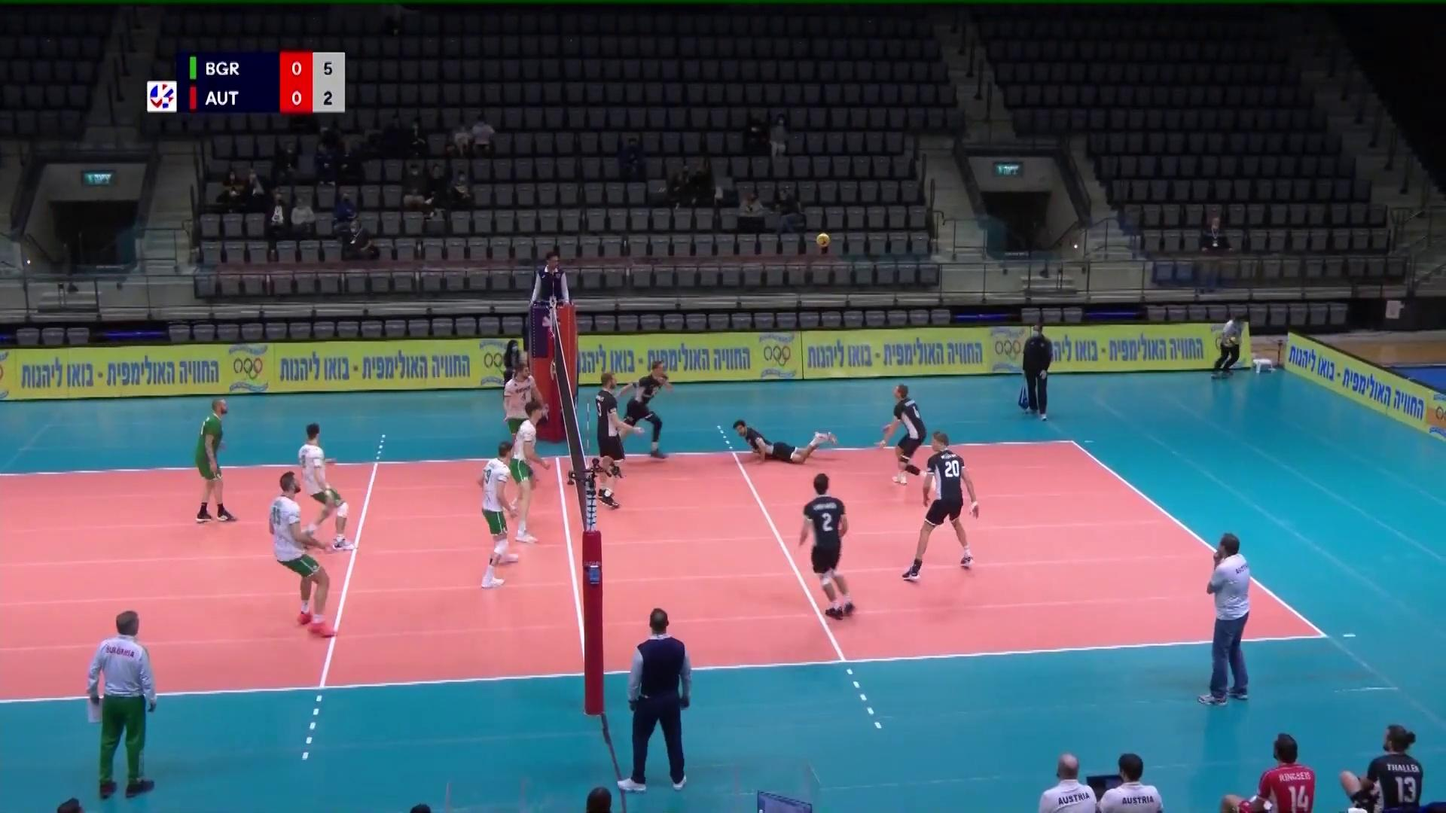ball: (816, 233, 830, 248)
